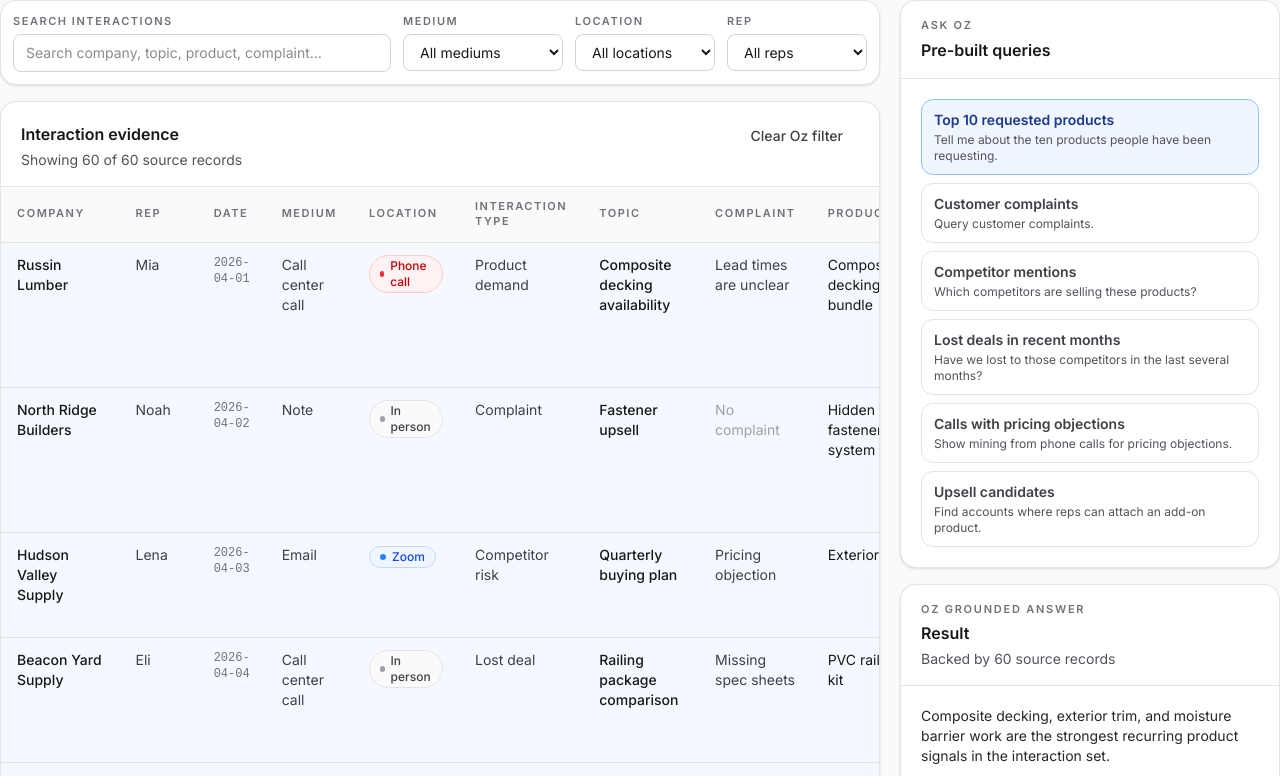
Test: CallMiningPage › searches and filters the interaction records
Type "Russin Lumber" into the field with placeholder "Search company, topic, product, complaint...".
click(202, 52); type("Russin Lumber")  # box [13,34,391,72]
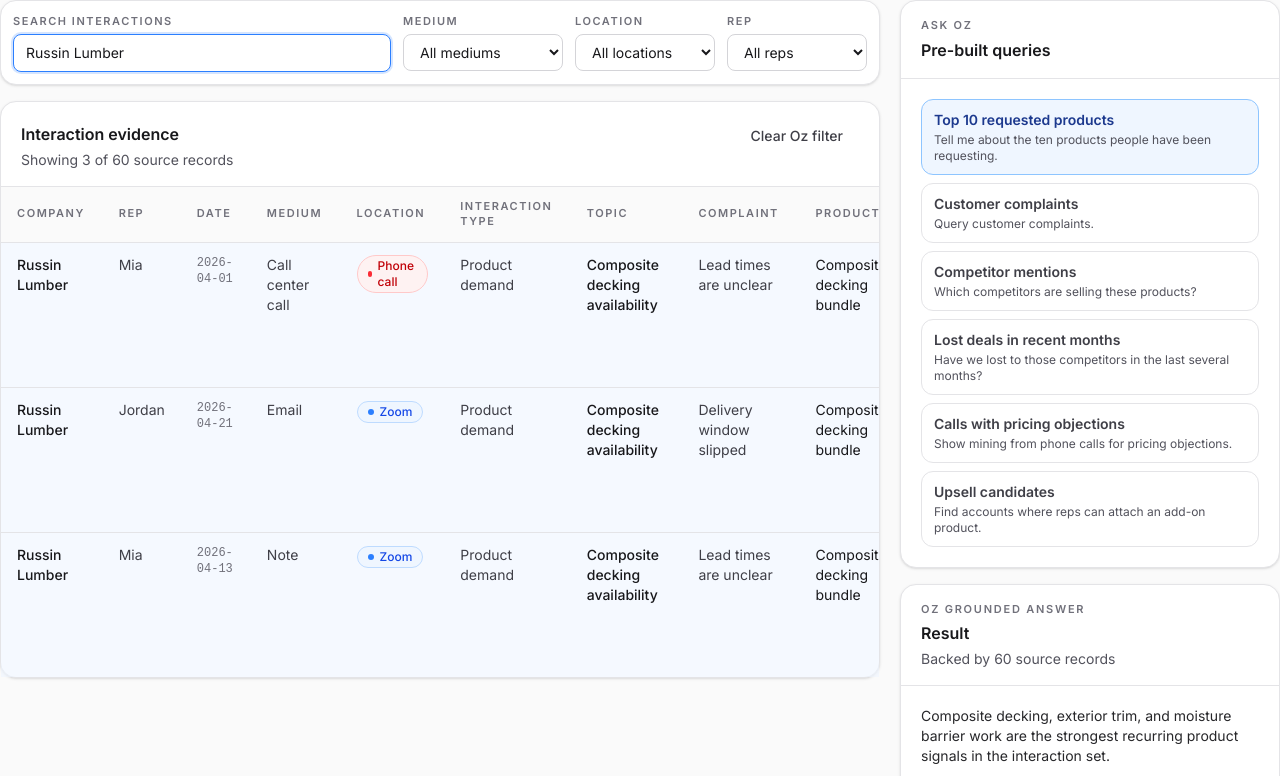
Expected: the number of rows with test id "call-mining-row" is 3, [1,242,879,387]; [1,387,879,532]; [1,532,879,677]
Select "Email" in the dropdown labelled "Medium" at coordinates (483, 52), box [403,34,563,70]
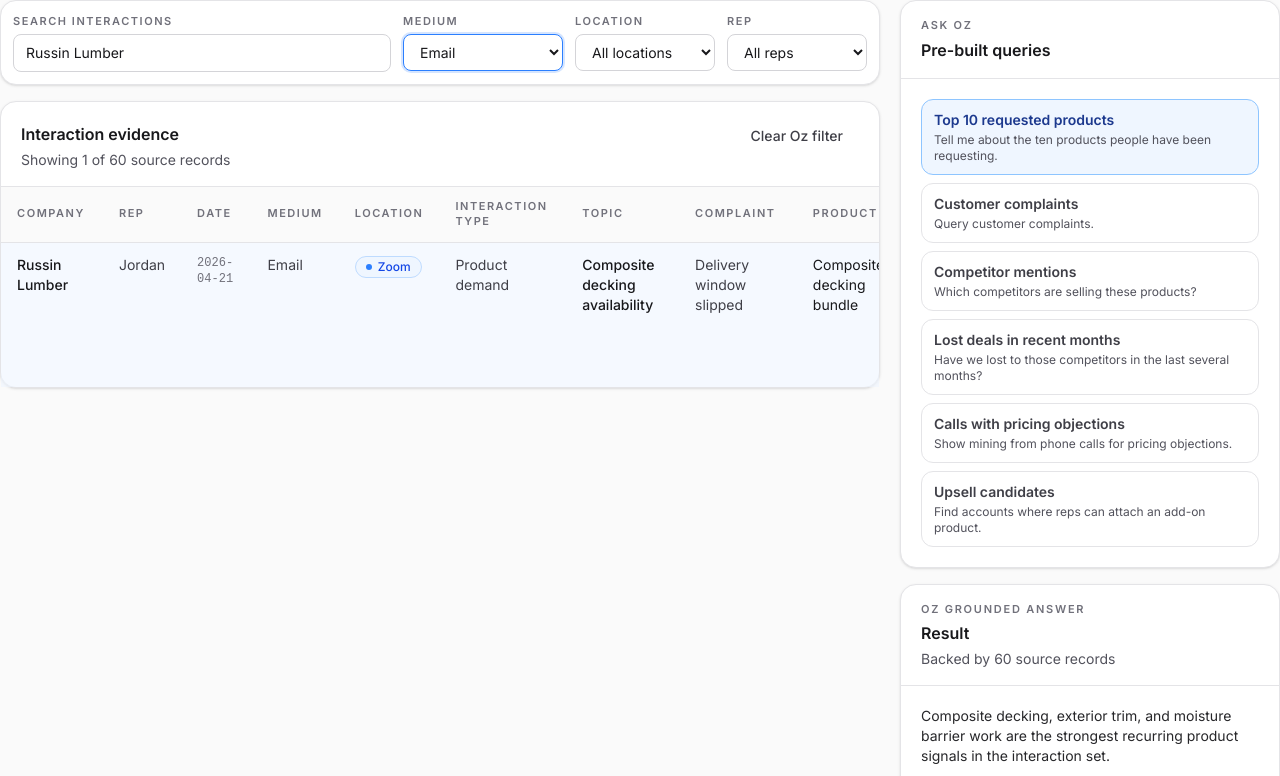
Expected: the text "Hudson Valley Supply" is not shown
Expected: the number of rows with test id "call-mining-row" is 1, [1,242,879,387]
